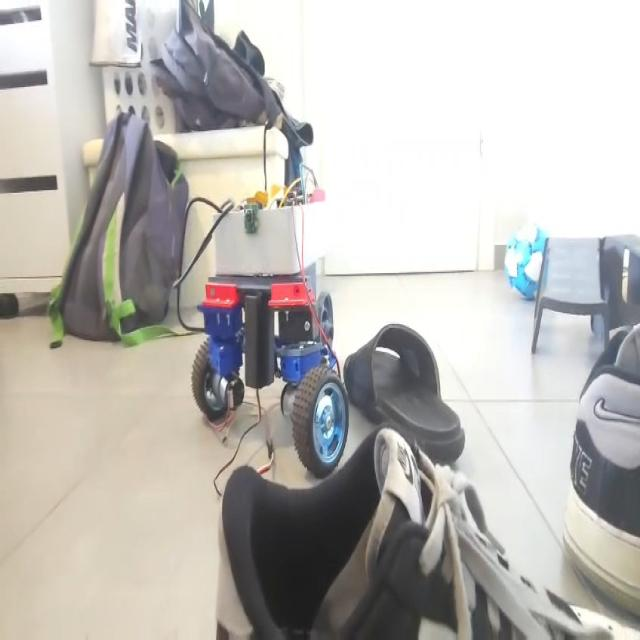Robot: (191, 158, 351, 479)
